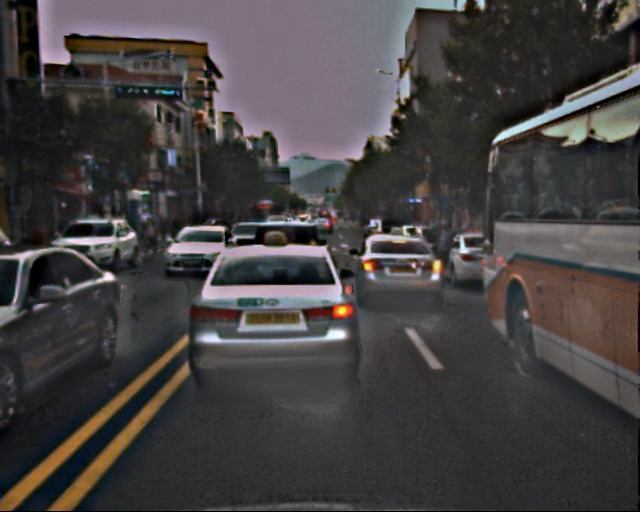person: (435, 221, 461, 295)
